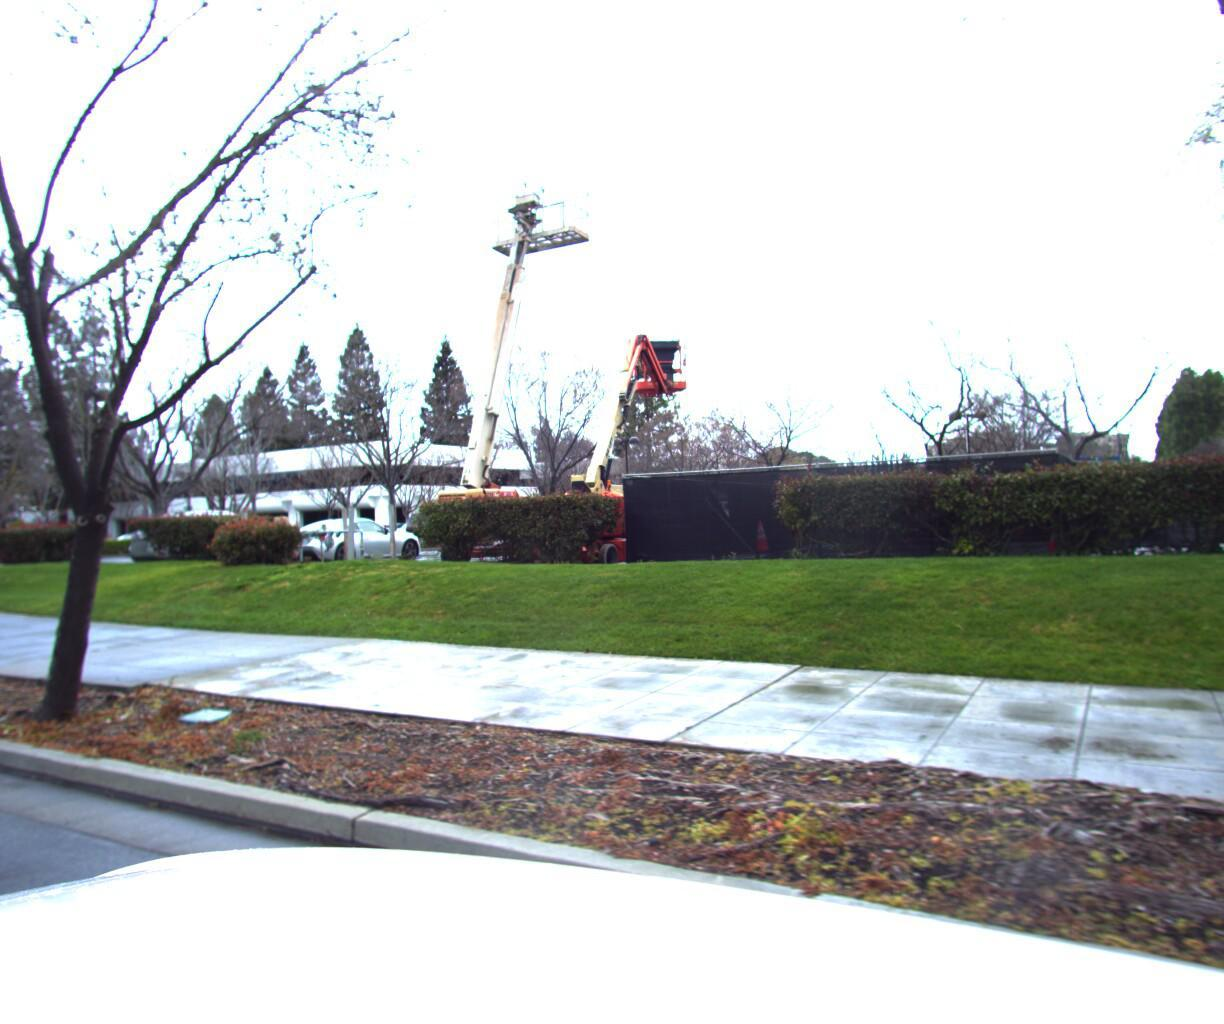car: (125, 509, 305, 579)
